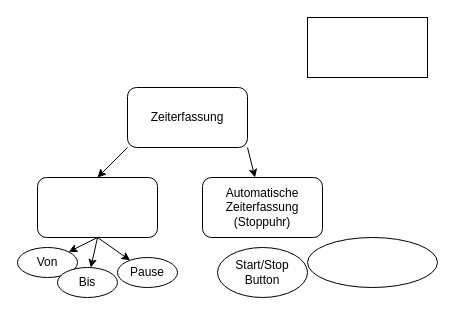
Some shapes in this 455 by 315 pixel diagram are drawn without their labels. The shapes that lost their labels are listed below. From the top down, each one's box as (x1, y1, x2, y2) in pixels, then its label:
(306, 16, 428, 78): Benutzeroberfläche
(36, 176, 158, 238): Manuelle Zeiterfassung
(306, 236, 438, 288): Pausenerfassung
